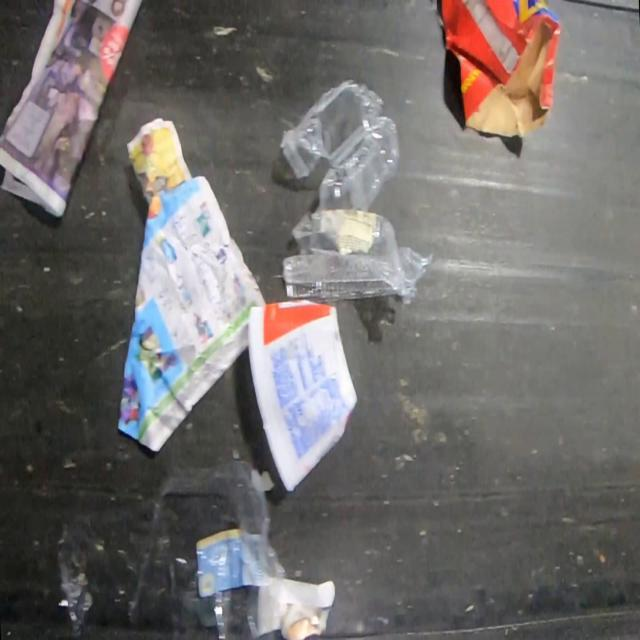cardboard: (439, 0, 565, 141)
rigid_plastic: (279, 80, 434, 307), (245, 300, 360, 493)
soft_plastic: (57, 460, 288, 640)
